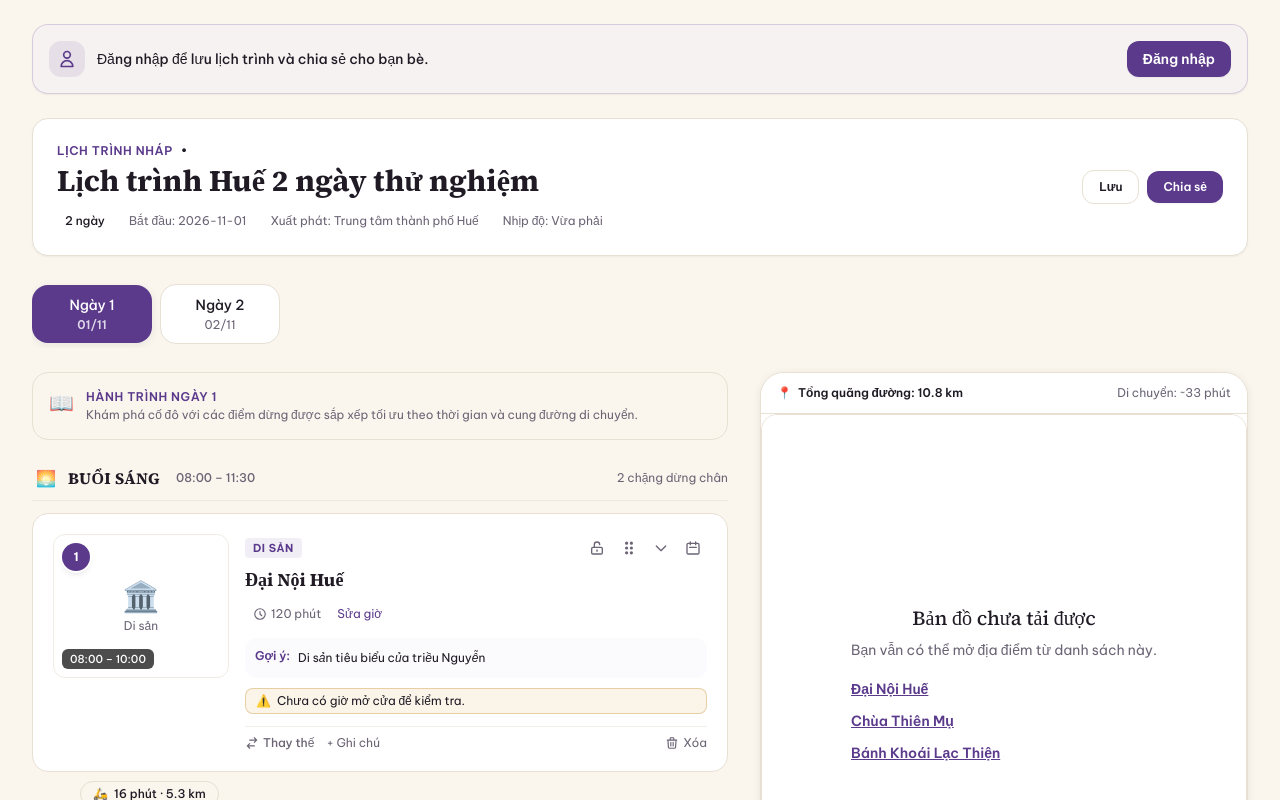
Test case: TripEditorPage › opens alternatives sheet when clicking Thay thế
Click the button "Thay thế". click: point(280, 742)
box: [245,734,314,750]
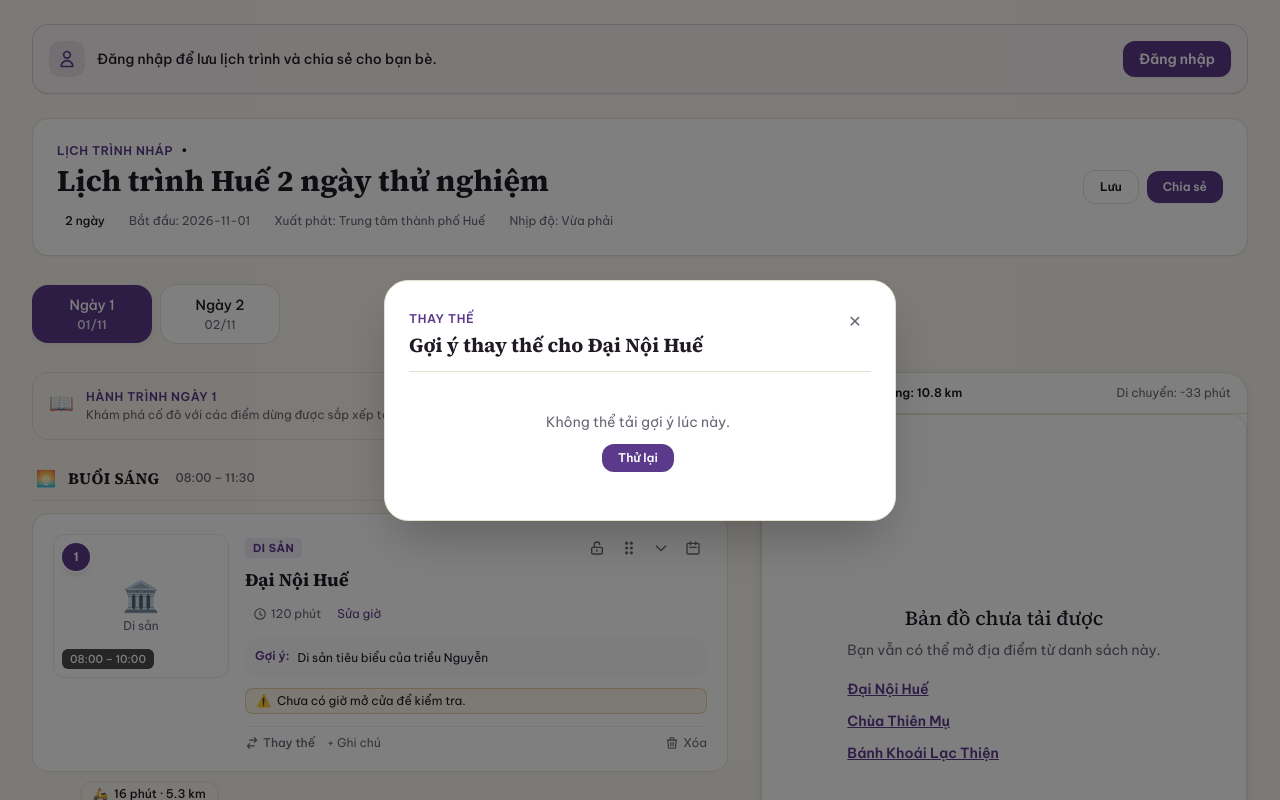
Now the text "Gợi ý thay thế cho" is shown, box [409,330,588,358]
